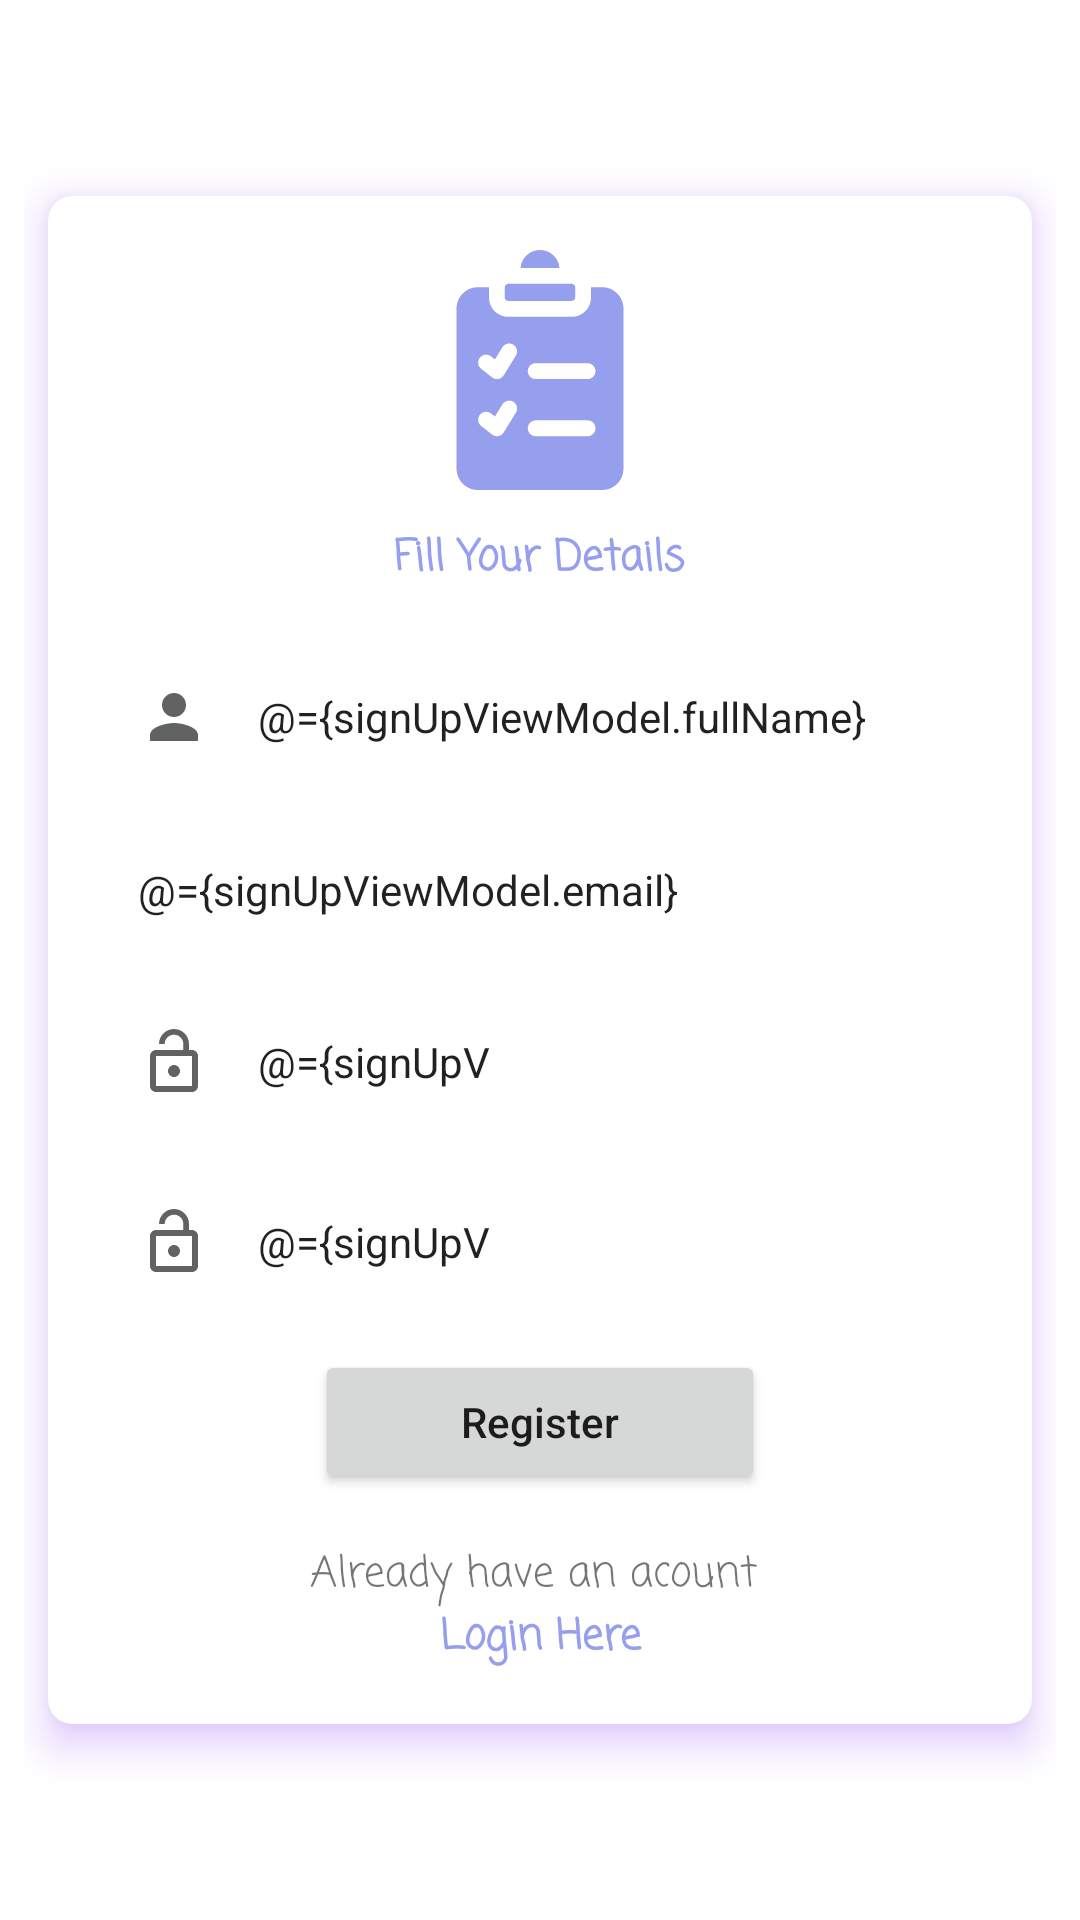

Locate icon controls on the screen. Image size 1080px x 1920px, boxes as [left=x1, top=y1, right=x2, bottom=y2].
form: [left=456, top=250, right=624, bottom=490]
